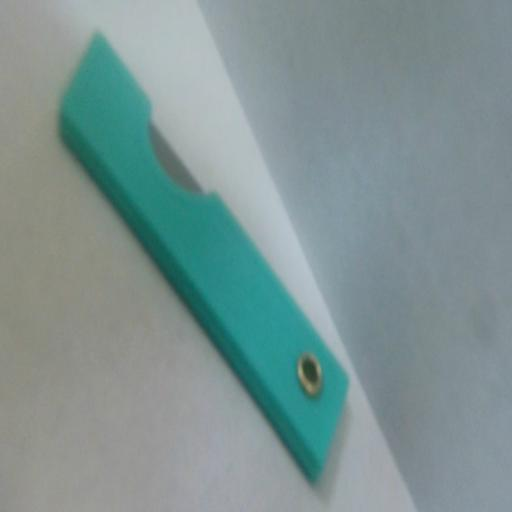rubbish: (56, 24, 352, 497)
